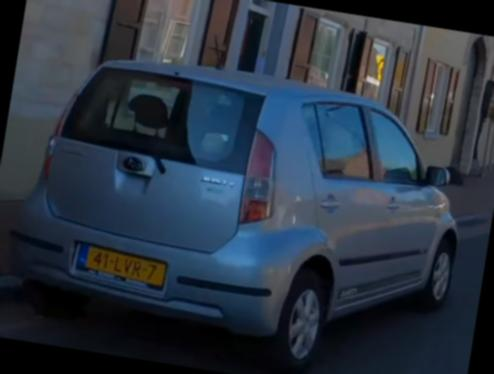license-plate: (71, 241, 170, 291)
